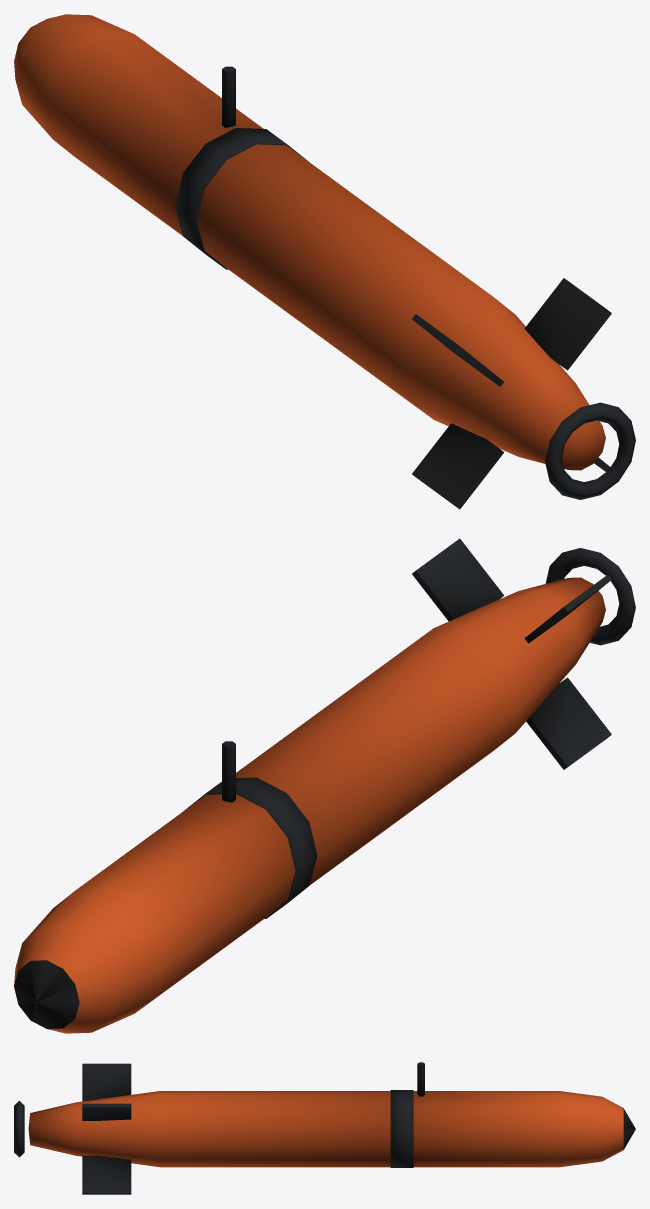
The model's file is auv_LOD0.glb.
3 views of the same model, one above another, from view 1: azimuth 30°, elevation 25°; view 2: azimuth 150°, elevation 25°; view 3: azimuth 270°, elevation 25° (orthographic). The views are drawn at different scales.
Parts seen in each view (by area): view 1: Hull, Rubber; view 2: Hull, Rubber; view 3: Hull, Rubber.
Part boxes in pixels (x1,y1,x2,y2): Hull: (14,14,605,470); Rubber: (175,66,635,509); Hull: (14,577,605,1033); Rubber: (14,538,635,1028); Hull: (28,1091,623,1167); Rubber: (14,1062,635,1194).
Size of the model in its own units: 0.6534 by 0.7967 by 4.06.
